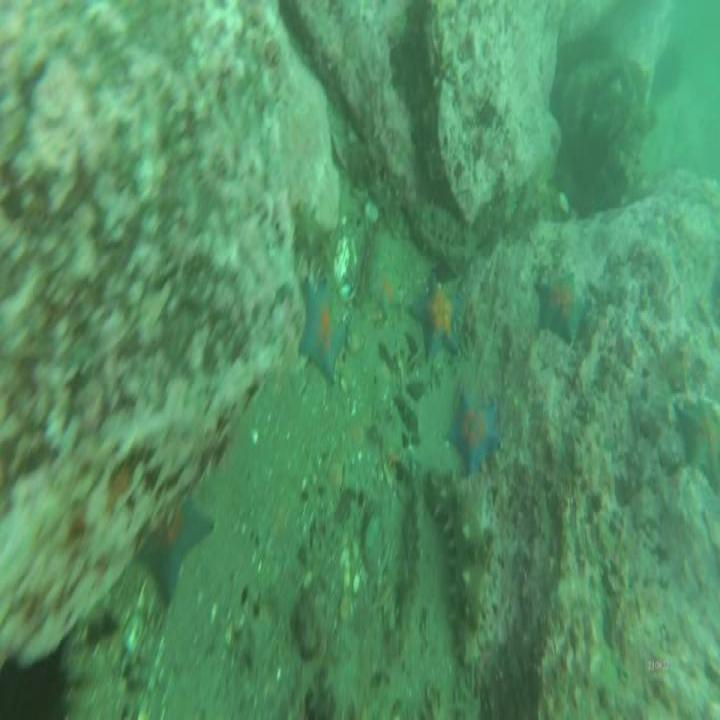holothurian: (432, 482, 491, 631)
starfish: (137, 489, 215, 603), (298, 277, 346, 379), (446, 391, 501, 473), (675, 396, 720, 482), (409, 276, 457, 356), (533, 274, 587, 340), (368, 267, 399, 311)
